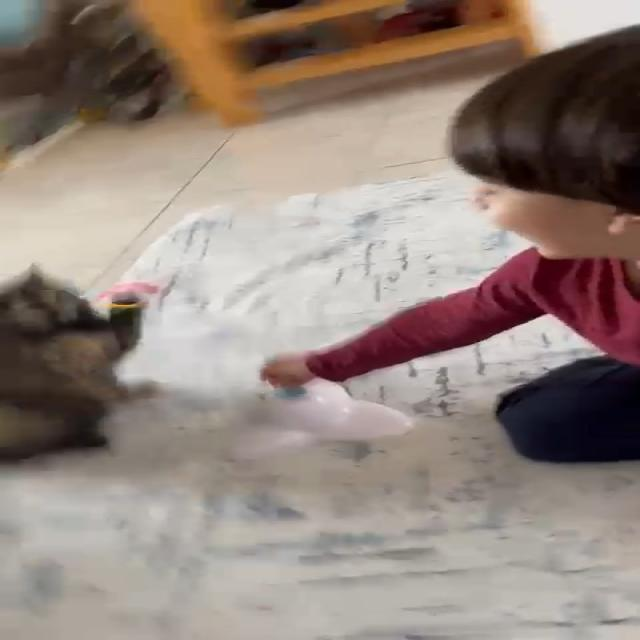authorized: (0, 262, 160, 461)
